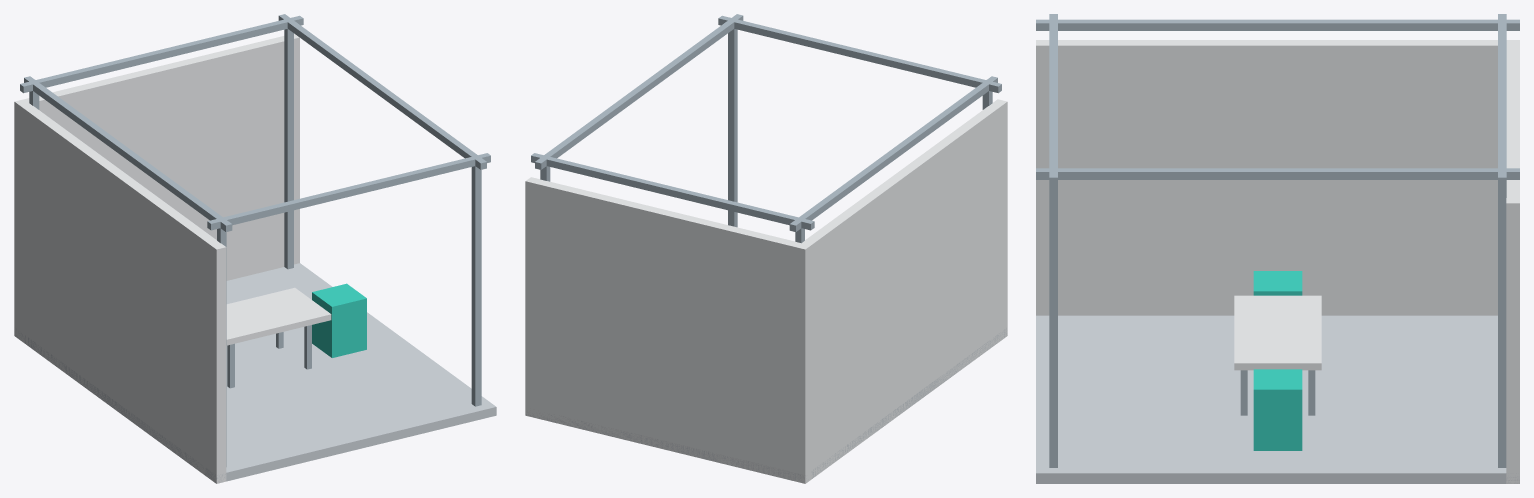
3 views of the same model, side by side, from view 1: azimuth 30°, elevation 25°; view 2: azimuth 150°, elevation 25°; view 3: azimuth 270°, elevation 25° (orthographic). The views are drawn at different scales.
Parts seen in each view (by area): view 1: Exhibition Booth Concept; view 2: Exhibition Booth Concept; view 3: Exhibition Booth Concept.
Boxes of the visible parts, bbox=[...] form: Exhibition Booth Concept: bbox=[14, 14, 496, 483]; Exhibition Booth Concept: bbox=[525, 14, 1007, 483]; Exhibition Booth Concept: bbox=[1036, 14, 1519, 483].
Bounding box in the file's own units: 4 × 3.49 × 5.
